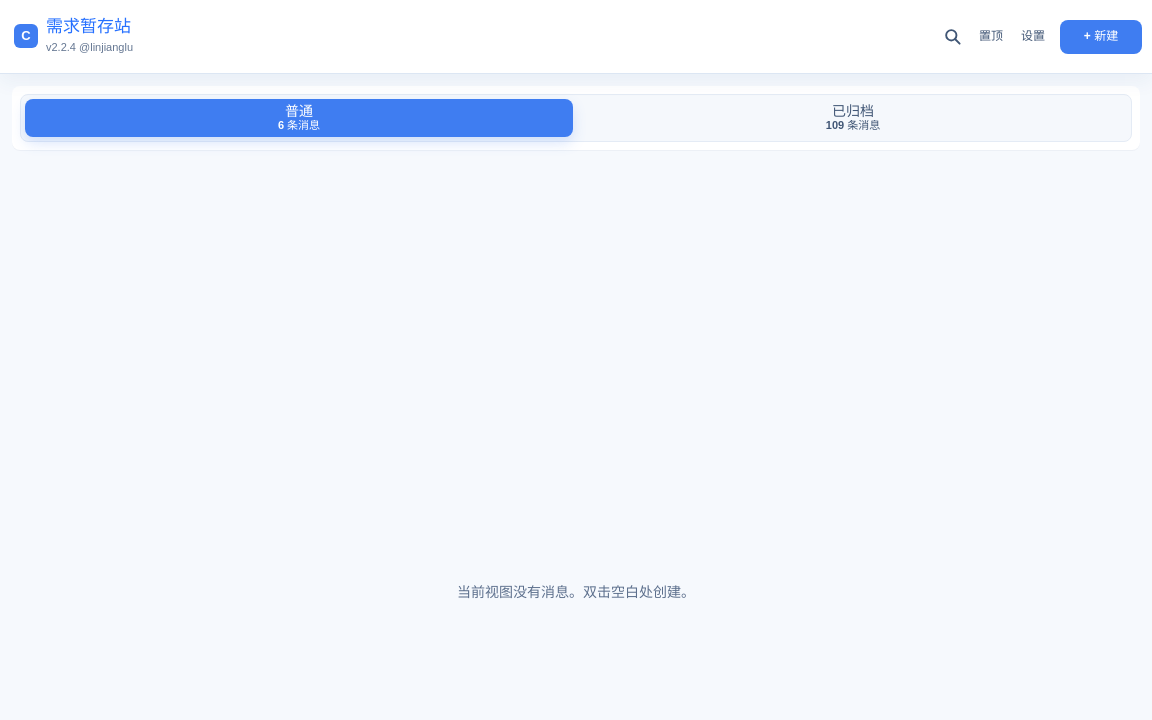
Test: settings storage panel › runs manual migration and reports skipped duplicates
Click the button "设置" at (1033, 36), box top-left (1014, 22), bottom-right (1052, 52)
(page scrolled)
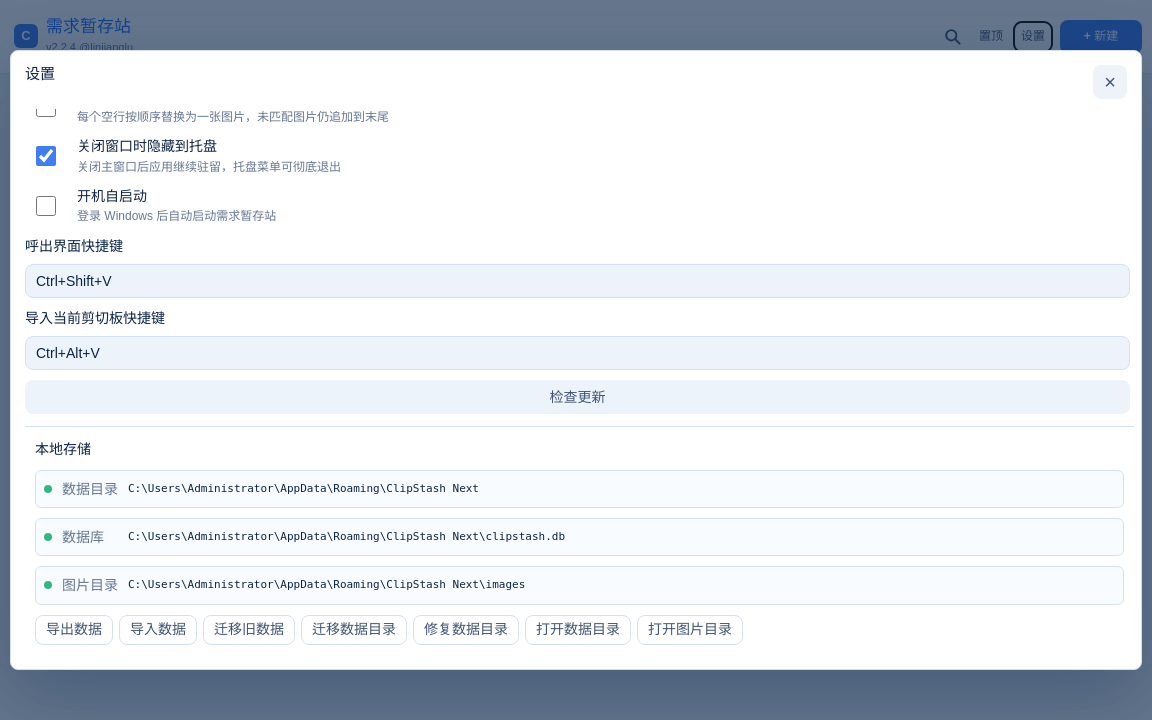
Click the button "迁移旧数据" at (249, 630), box top-left (203, 615), bottom-right (295, 645)
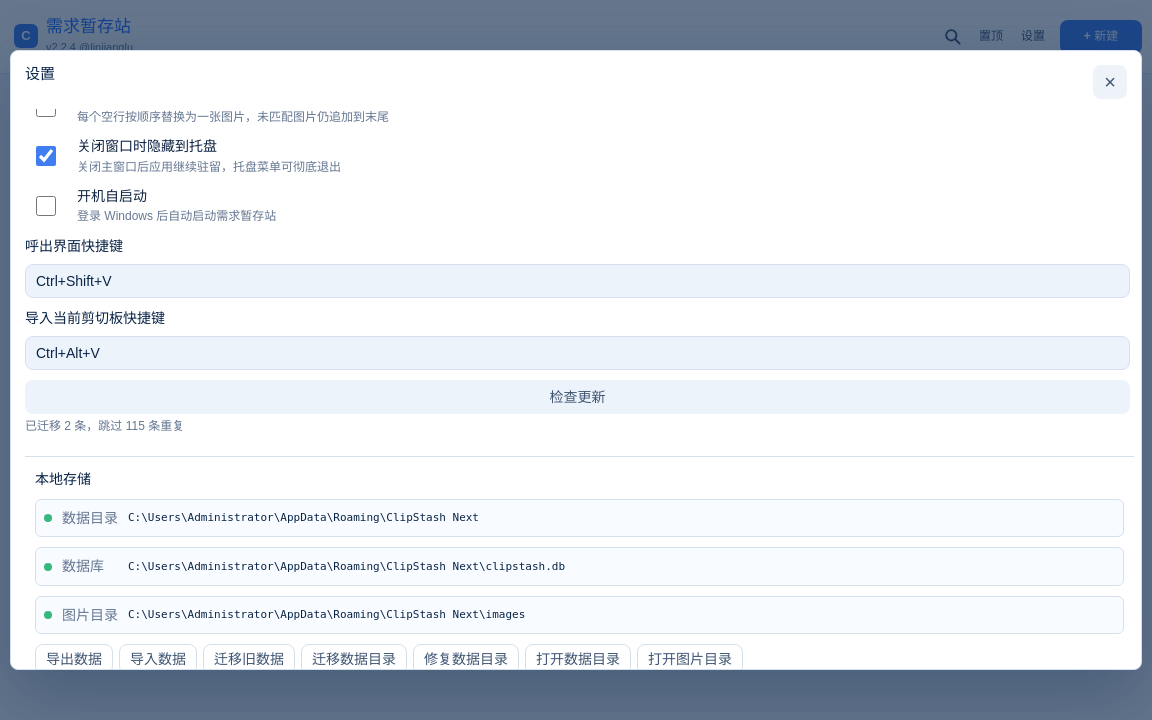
Result: the text "已迁移 2 条，跳过 115 条重复" is shown at top-left (25, 419), bottom-right (184, 433)
